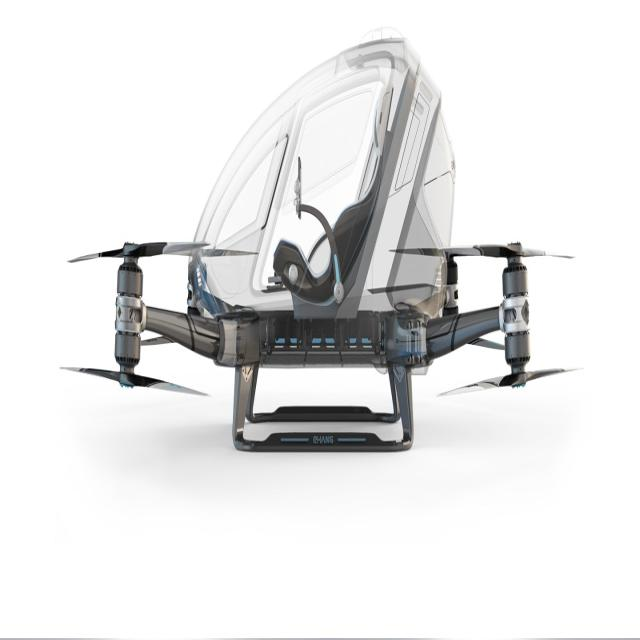drone: (60, 25, 588, 458)
